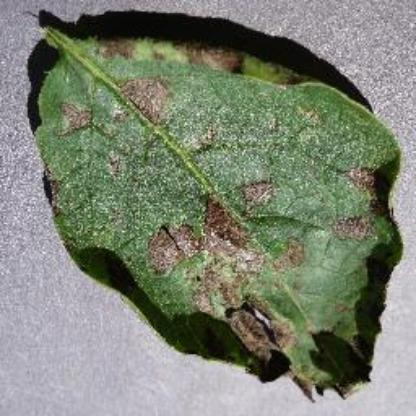Early-Blight: (25, 13, 398, 400)
